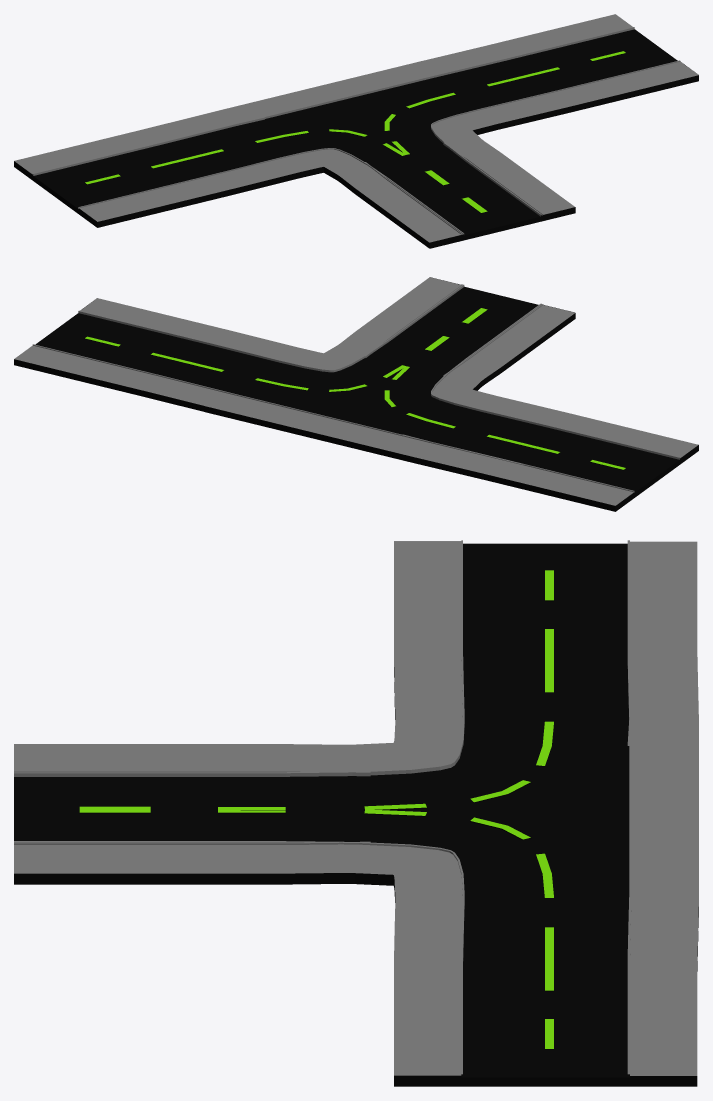
The model's file is road T.fbx.
3 views of the same model, one above another, from view 1: azimuth 30°, elevation 25°; view 2: azimuth 150°, elevation 25°; view 3: azimuth 270°, elevation 25° (orthographic). The views are drawn at different scales.
Parts seen in each view (by area): view 1: Cube, Cube.001; view 2: Cube, Cube.001; view 3: Cube, Cube.001.
Part boxes in pixels (x1,y1,x2,y2): Cube: [14, 60, 575, 247]; Cube.001: [143, 14, 698, 248]; Cube: [204, 277, 698, 511]; Cube.001: [14, 277, 575, 464]; Cube: [14, 540, 698, 916]; Cube.001: [14, 638, 698, 1086].
Bounding box in the file's own units: 3747 × 41.28 × 2031.
